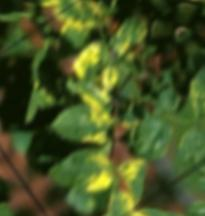Tomato leaf mosaic virus: (45, 140, 119, 209), (47, 95, 117, 164), (123, 108, 183, 168), (99, 7, 156, 61), (168, 117, 205, 169), (174, 66, 205, 125), (149, 78, 186, 118)
